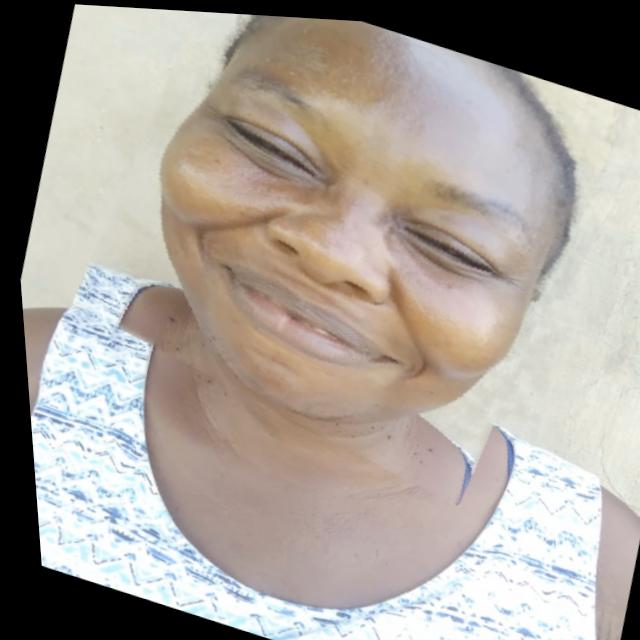happy: (51, 2, 625, 507)
